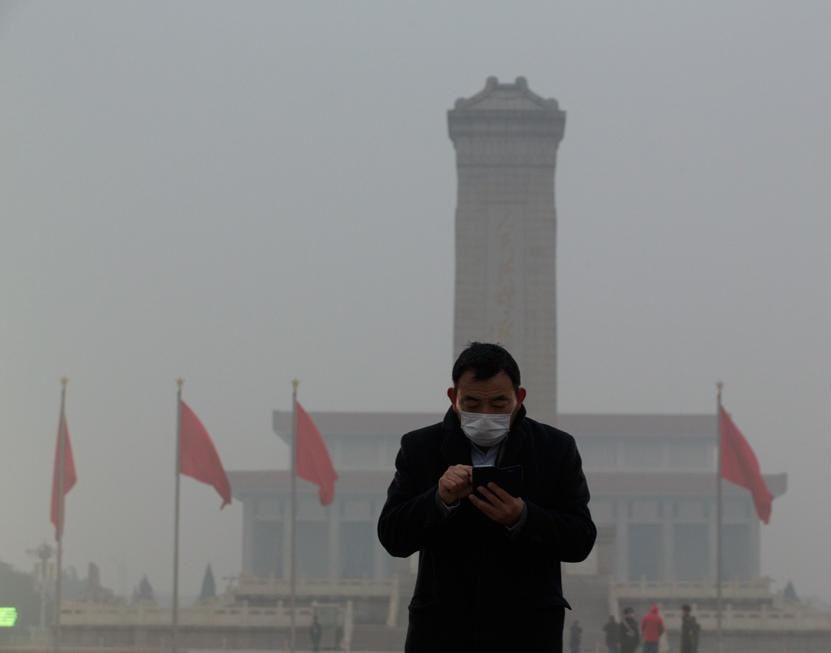person: (375, 335, 595, 649), (638, 602, 665, 653), (615, 601, 640, 652), (679, 601, 701, 650), (600, 611, 623, 653), (568, 614, 585, 653)
